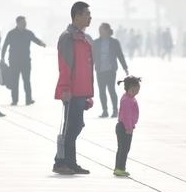person: (50, 1, 96, 176), (109, 74, 146, 179), (92, 22, 129, 119), (4, 16, 43, 106), (157, 28, 173, 65), (124, 27, 135, 61), (142, 30, 155, 57)
